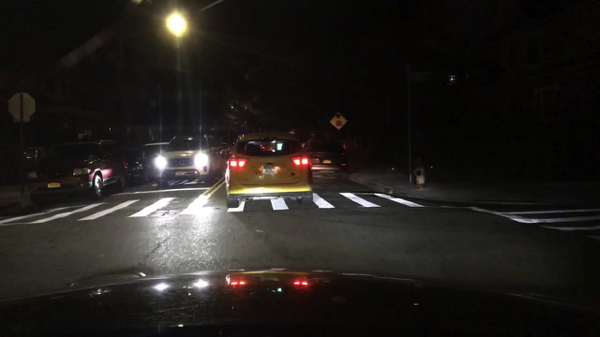car: (223, 128, 315, 208), (29, 140, 128, 209), (154, 134, 224, 190), (301, 140, 351, 181), (121, 150, 159, 186), (143, 142, 169, 164), (215, 140, 234, 159)
traffic sign: (8, 93, 37, 117), (330, 114, 348, 130), (13, 116, 30, 124)
